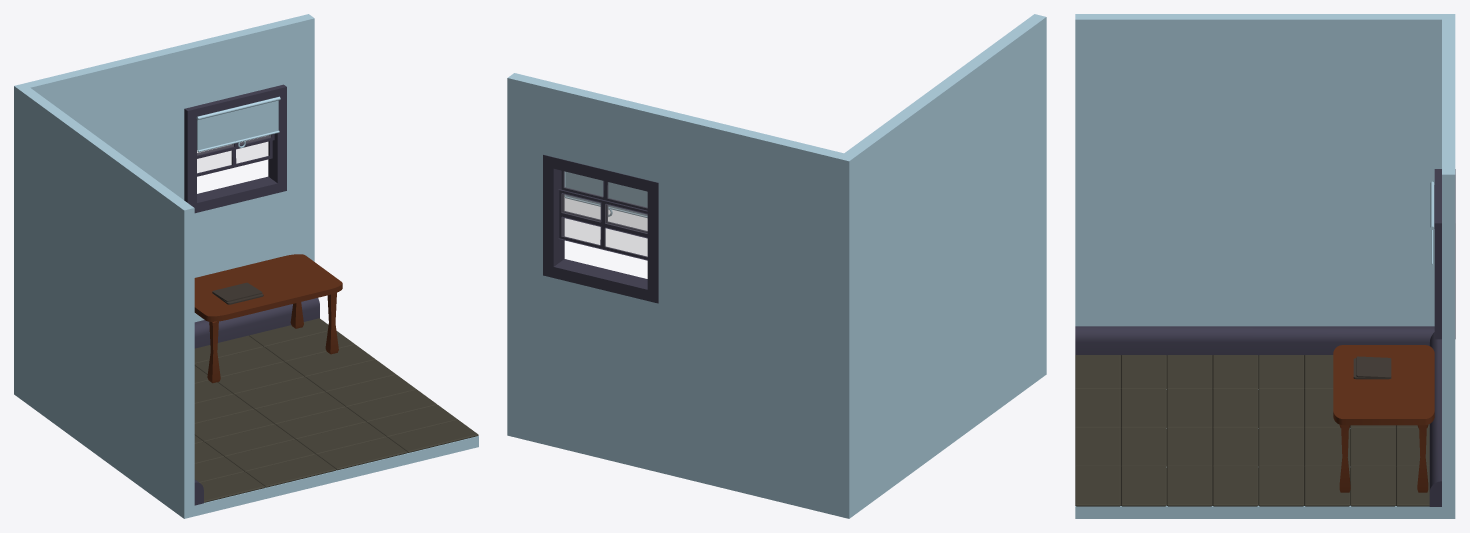
Rendered from darkroomwithlpanimation.glb.
3 renders of one model, left to right at view 1: azimuth 30°, elevation 25°; view 2: azimuth 150°, elevation 25°; view 3: azimuth 270°, elevation 25°, orthographic. The views are drawn at different scales.
Visible parts, largest first — view 1: Cube, Floor, Desk, Window, WindowShade, Trim, WindowPane.001, LaptopTop; view 2: Cube, Window, WindowPane.001, WindowPane, WindowShade; view 3: Cube, Floor, Trim, Desk, Window, LaptopTop.
Boxes of the visible parts, x1=… form: Cube: x1=14, y1=14, x2=478, y2=518; Floor: x1=194, y1=318, x2=478, y2=502; Desk: x1=194, y1=254, x2=342, y2=383; Window: x1=184, y1=84, x2=286, y2=213; WindowShade: x1=196, y1=96, x2=280, y2=152; Trim: x1=194, y1=298, x2=319, y2=505; WindowPane.001: x1=197, y1=135, x2=272, y2=176; LaptopTop: x1=212, y1=282, x2=262, y2=301; Cube: x1=507, y1=14, x2=1046, y2=518; Window: x1=543, y1=154, x2=658, y2=303; WindowPane.001: x1=558, y1=189, x2=647, y2=260; WindowPane: x1=561, y1=170, x2=647, y2=232; WindowShade: x1=565, y1=172, x2=647, y2=217; Cube: x1=1075, y1=14, x2=1455, y2=518; Floor: x1=1075, y1=355, x2=1429, y2=506; Trim: x1=1075, y1=326, x2=1441, y2=506; Desk: x1=1333, y1=345, x2=1434, y2=492; Window: x1=1433, y1=169, x2=1455, y2=339; LaptopTop: x1=1356, y1=356, x2=1391, y2=378.
Bounding box in the file's own units: 10 × 10 × 10.02.
